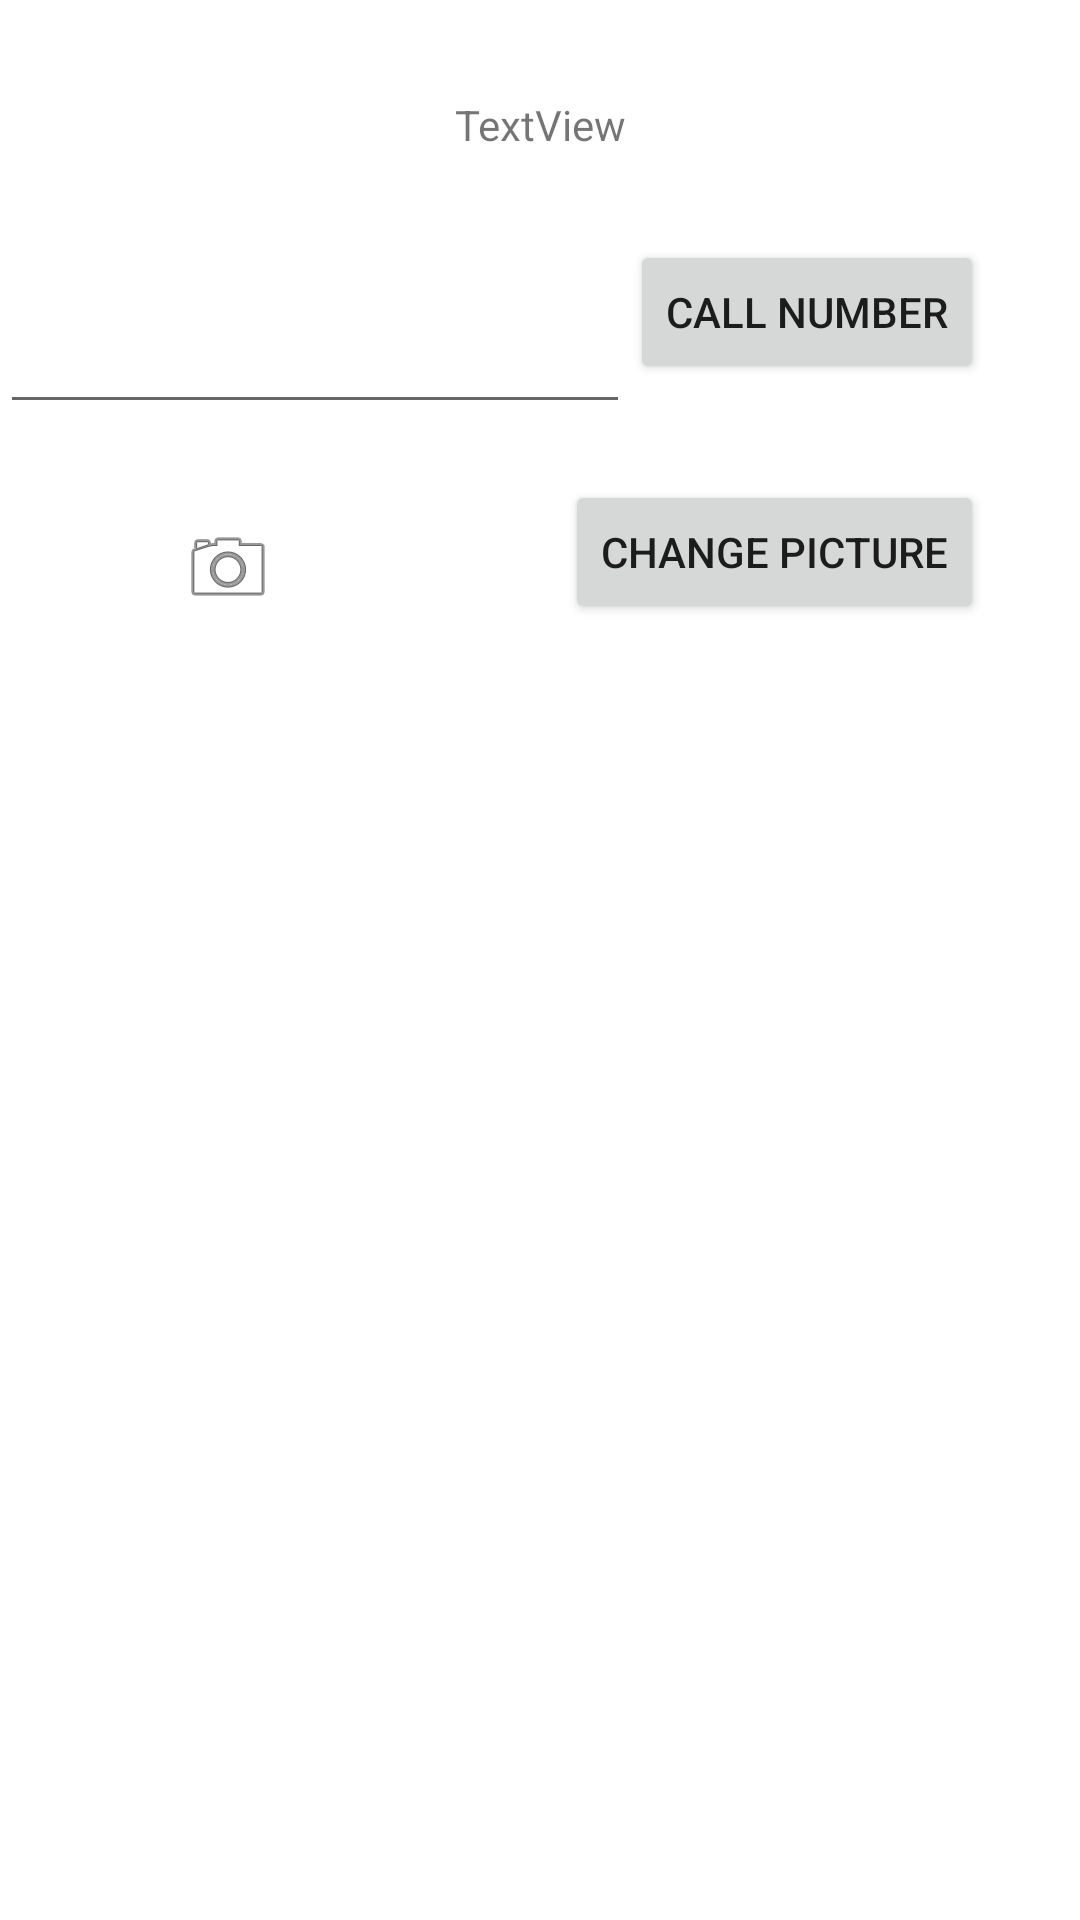

Icon bounding boxes for this 1080 x 1920 phone screenshot, format [left=x1, top=y1, right=x2, bottom=y2]:
camera: [left=191, top=537, right=265, bottom=596]
